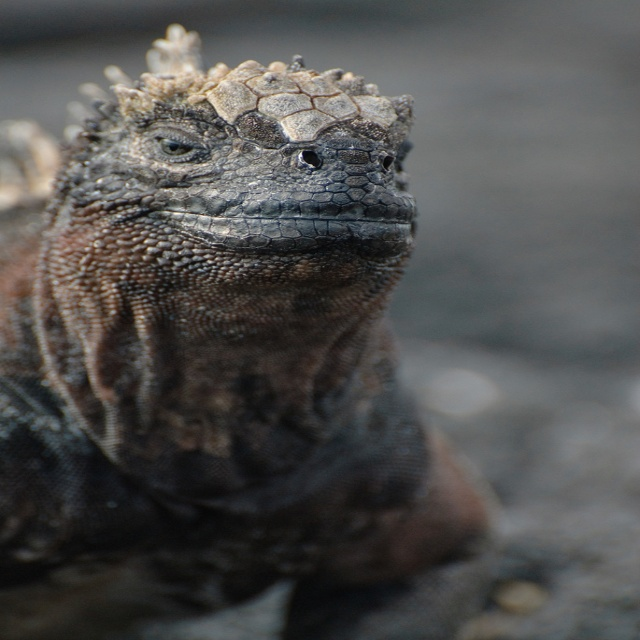Lizard: (14, 18, 496, 632)
